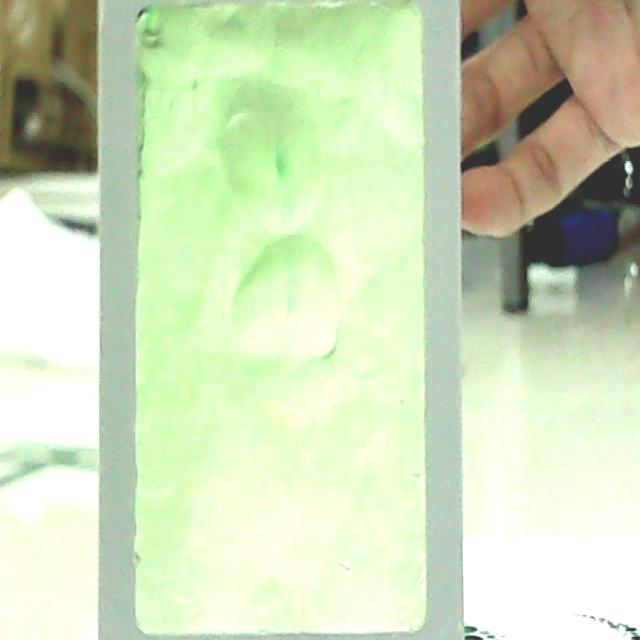block: (84, 0, 490, 640)
